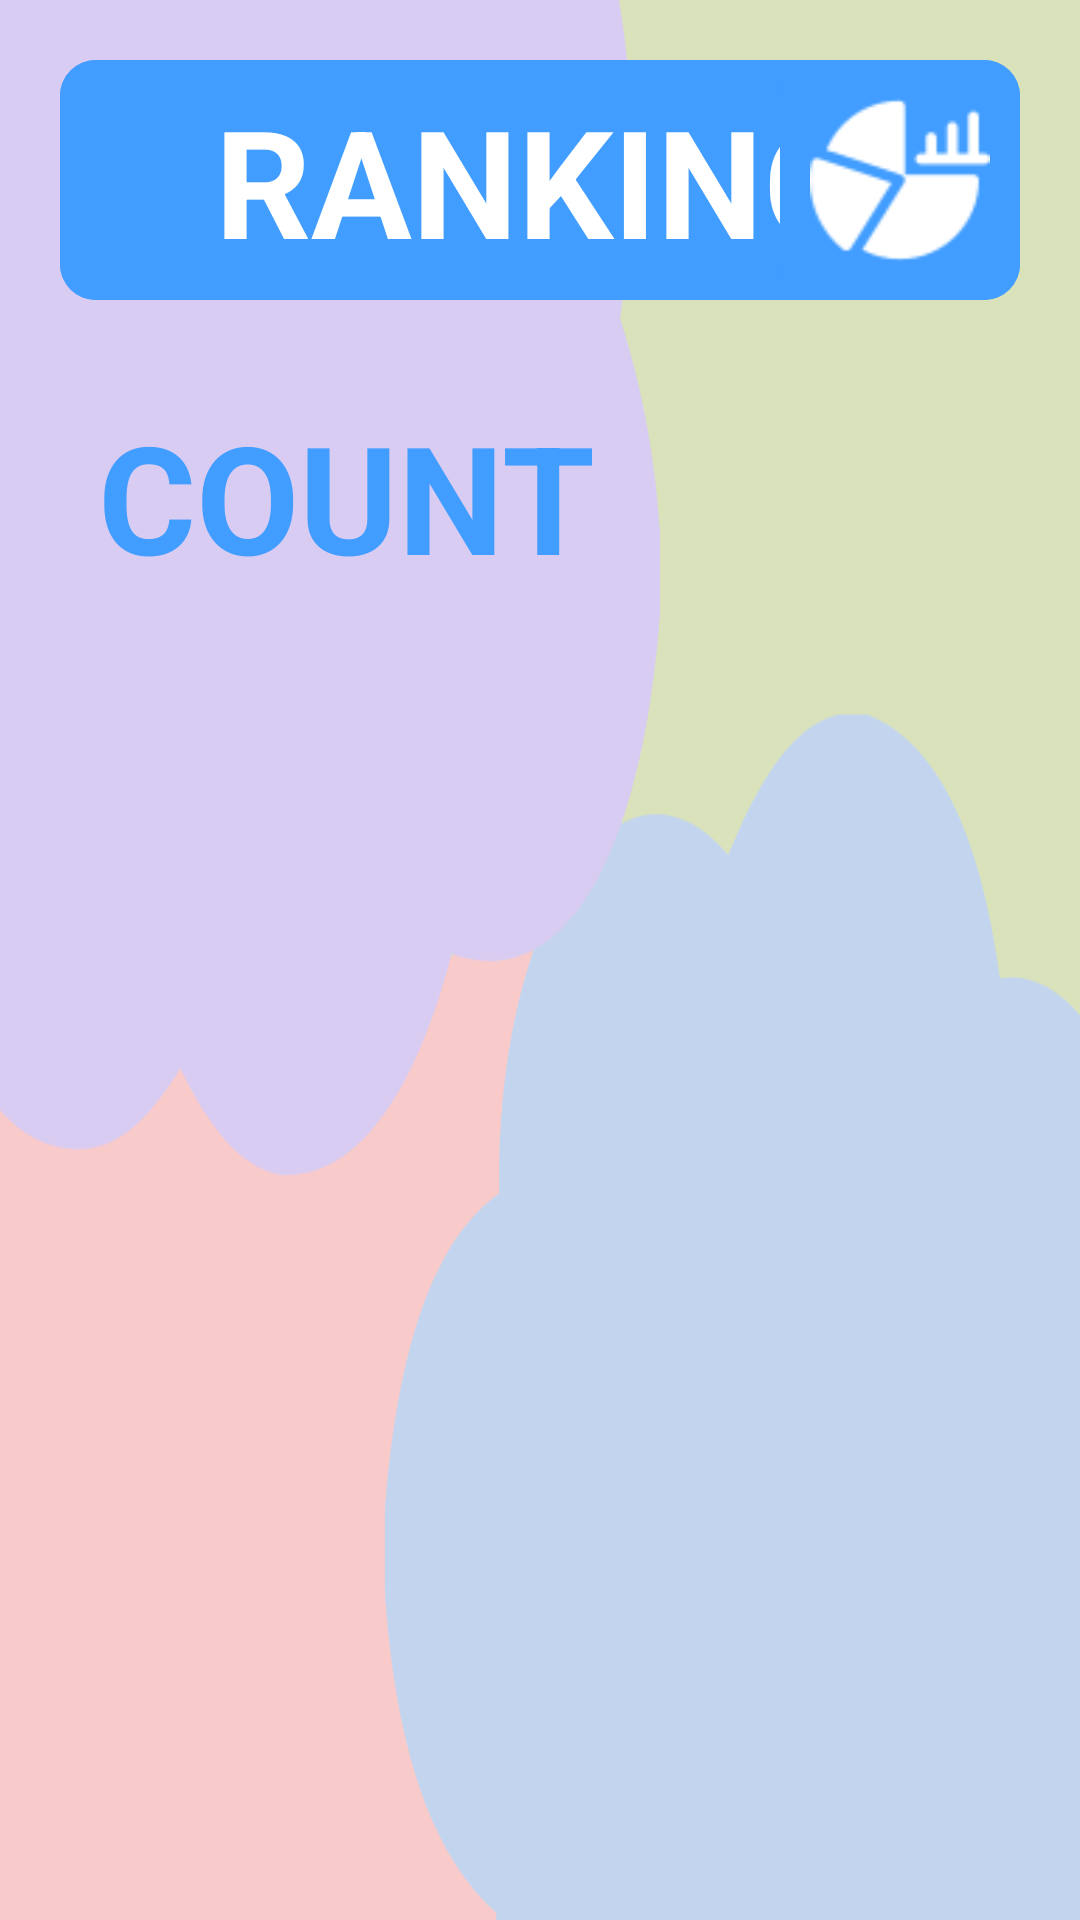

Screen size 1080px×1920px. Icon name, then its box in pixels as [x1, y1, x2, y2]:
grafico: [780, 60, 1020, 300]
